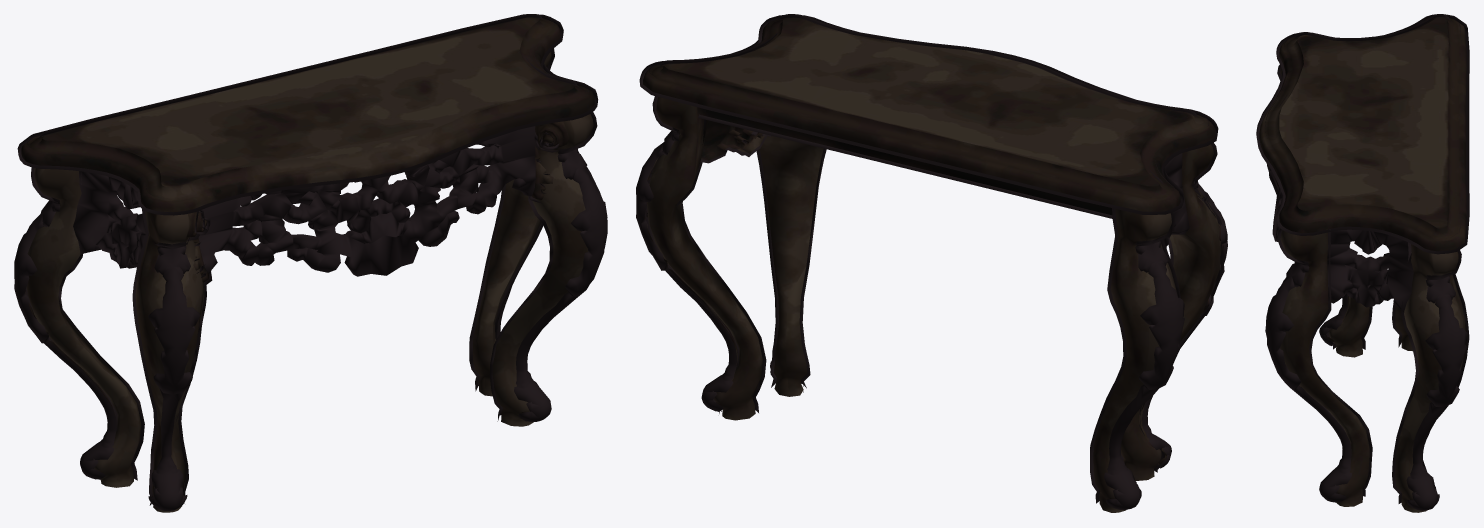
File: SM_Int_Console.fbx
The picture shows the model from 3 angles, left to right: view 1: azimuth 30°, elevation 25°; view 2: azimuth 150°, elevation 25°; view 3: azimuth 270°, elevation 25°; orthographic projection. The views are drawn at different scales.
Parts seen in each view (by area): view 1: SM_Int_Console; view 2: SM_Int_Console; view 3: SM_Int_Console.
Boxes of the visible parts, left/top/right/bottom form: SM_Int_Console: left=14, top=14, right=607, bottom=512; SM_Int_Console: left=636, top=14, right=1227, bottom=512; SM_Int_Console: left=1256, top=14, right=1469, bottom=512.
Size of what is drawn, in the model's own units: 1.4 by 0.8568 by 0.5421.
